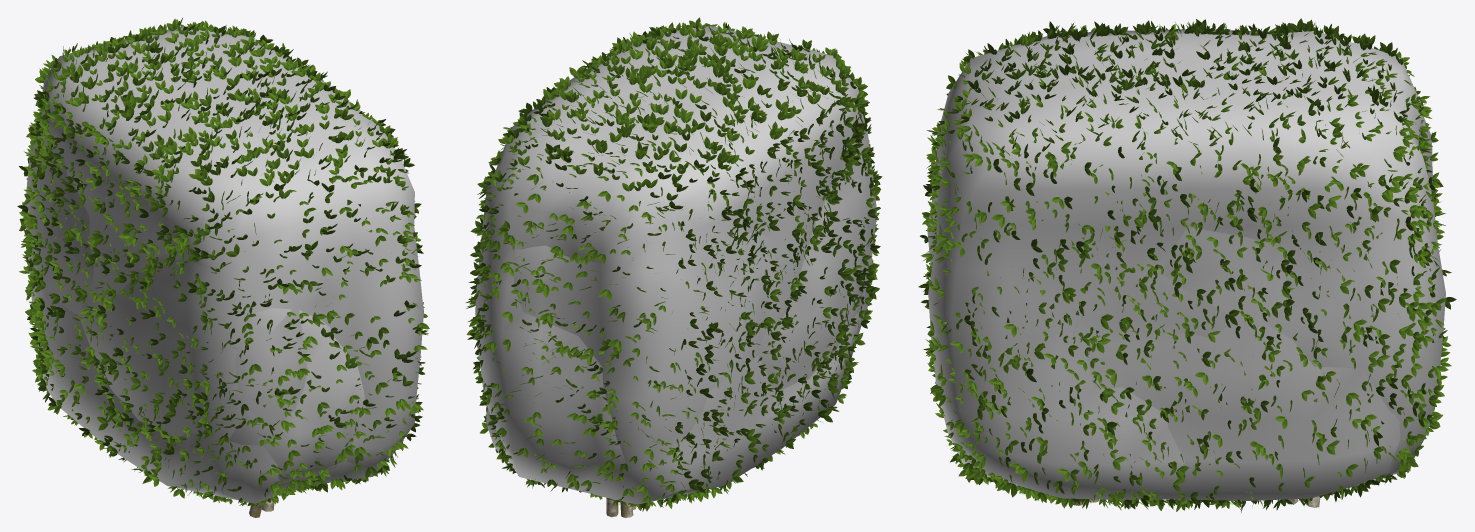
The model's file is Hedge.fbx.
The picture shows the model from 3 angles, left to right: view 1: azimuth 30°, elevation 25°; view 2: azimuth 150°, elevation 25°; view 3: azimuth 270°, elevation 25°; orthographic projection. The views are drawn at different scales.
Visible parts, largest first — view 1: Hedge_Hero_23; view 2: Hedge_Hero_23; view 3: Hedge_Hero_23.
Part boxes in pixels (x1,y1,x2,y2): Hedge_Hero_23: [17, 18, 429, 517]; Hedge_Hero_23: [466, 17, 882, 517]; Hedge_Hero_23: [918, 18, 1456, 512].
Size of the model in its own units: 0.71 by 1.06 by 1.16.
